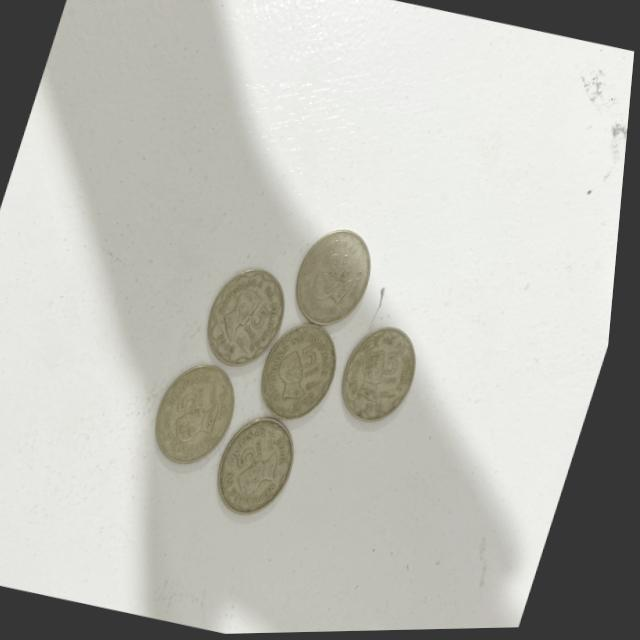5_Old_Front: (243, 295, 285, 349), (232, 429, 278, 478), (175, 377, 219, 427), (382, 343, 416, 395), (301, 340, 335, 389), (320, 243, 361, 277)
